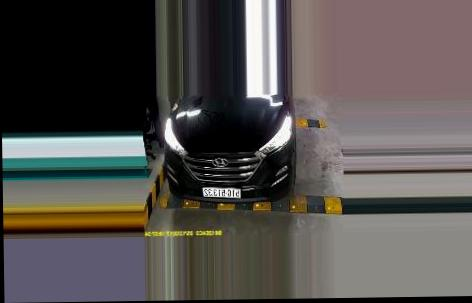License_Plate: (202, 183, 241, 198)
